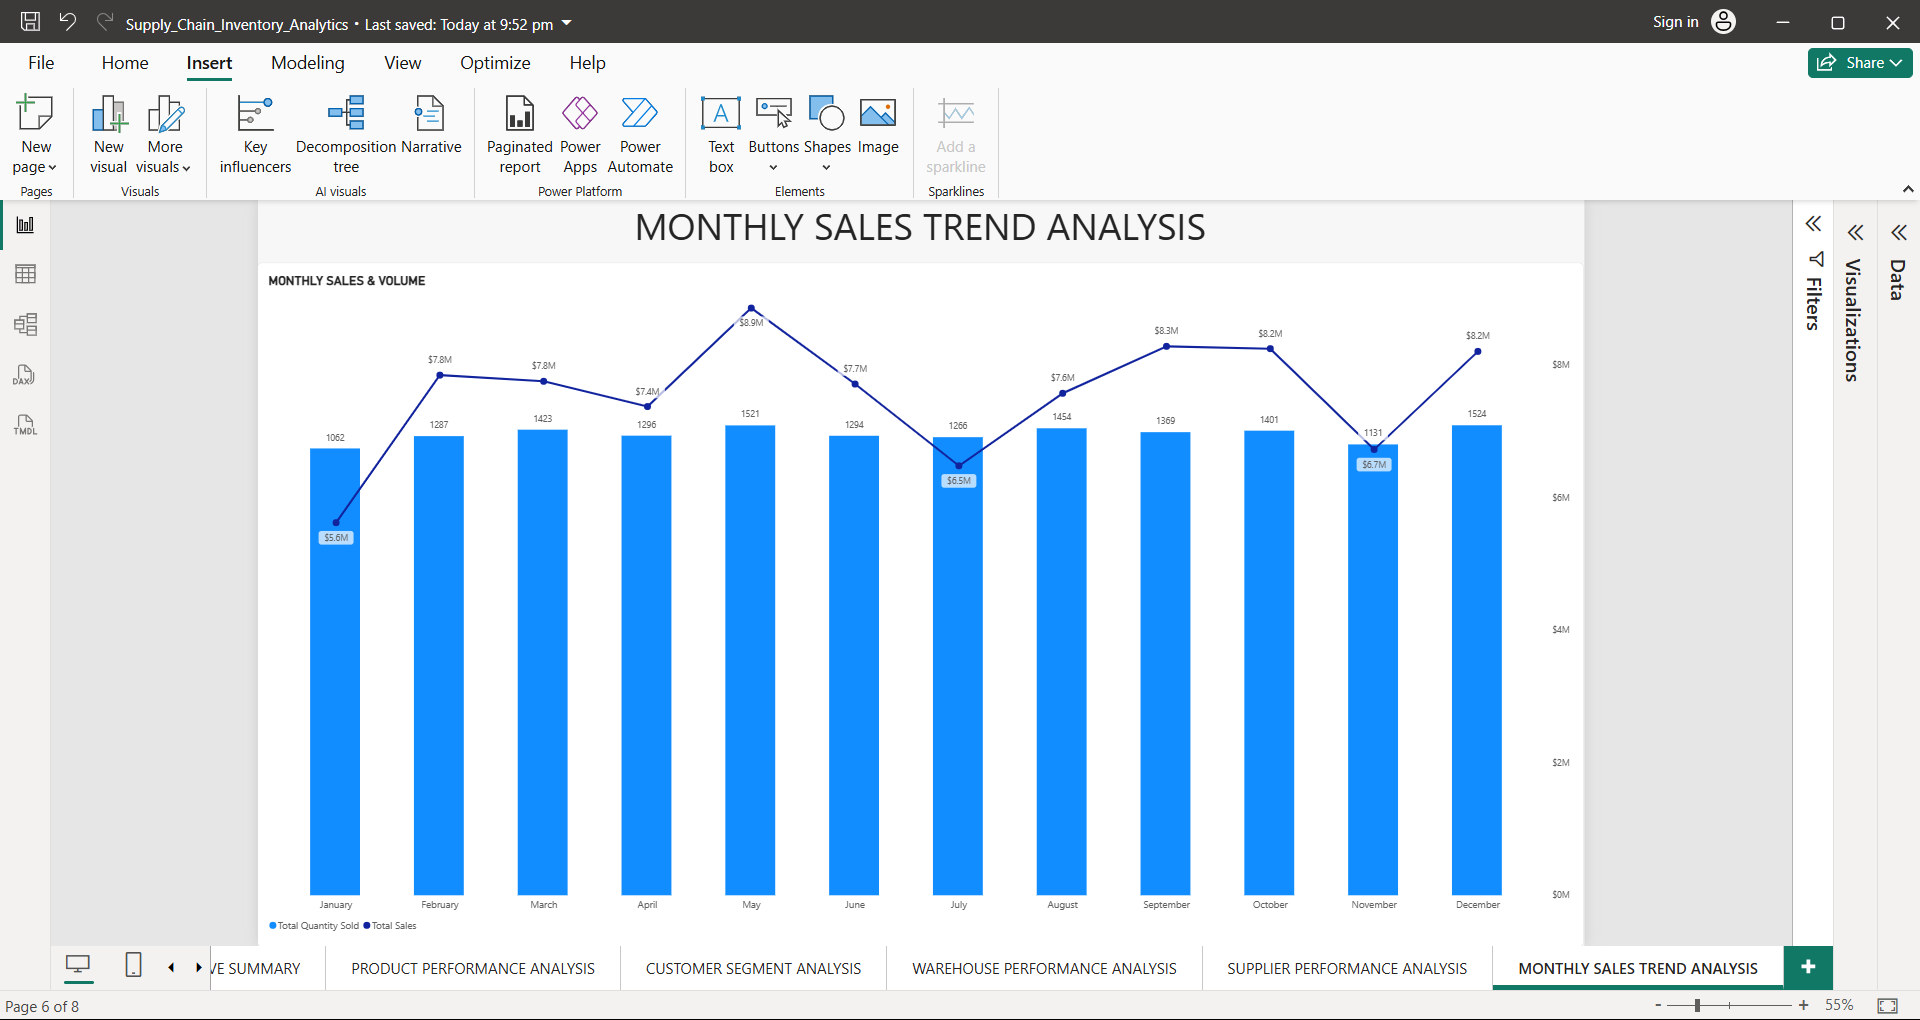

What the dashboard file says about the page in this screenshot:
{"tool":"powerbi","page":{"name":"MONTHLY SALES TREND ANALYSIS","canvas":[1920,1080],"ordinal":5},"visuals":[{"type":"textbox","box":[0,0,1920.4,90.6],"z":0},{"type":"lineClusteredColumnComboChart","title":"MONTHLY SALES & VOLUME","fields":{"Category":["Date.Date.Variation.Date Hierarchy.Year","Date.Date.Variation.Date Hierarchy.Month"],"Y":["Business Measures.Total Quantity Sold"],"Y2":["Business Measures.Total Sales"]},"box":[0,90.1,1920.4,990.9],"z":1000}]}

Visuals, with their boxes on the page's 1920x1080 design canvas (x1, y1, x2, y2). These are canvas units, not pixel positions in the 1920x1020 screenshot, which may show the page scaled, cropped or inside an application window:
textbox: x1=0, y1=0, x2=1920, y2=91
"MONTHLY SALES & VOLUME" lineClusteredColumnComboChart: x1=0, y1=90, x2=1920, y2=1081
